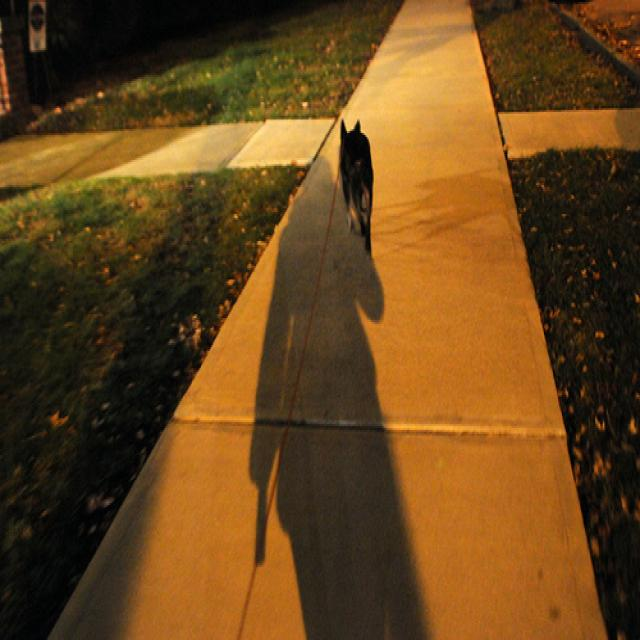Dog: (340, 95, 390, 232)
